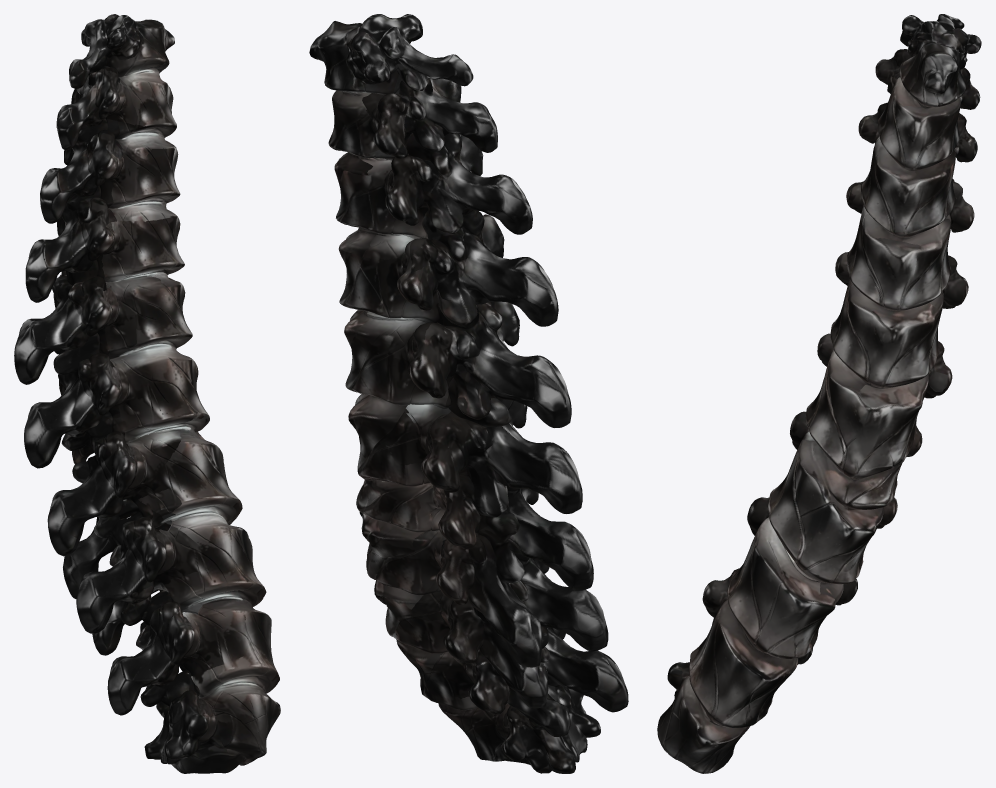
The model's file is spine-desktop.glb.
The picture shows the model from 3 angles, left to right: view 1: azimuth 30°, elevation 25°; view 2: azimuth 150°, elevation 25°; view 3: azimuth 270°, elevation 25°; orthographic projection. The views are drawn at different scales.
Parts seen in each view (by area): view 1: tripo_node_fd81abb5; view 2: tripo_node_fd81abb5; view 3: tripo_node_fd81abb5.
Boxes of the visible parts, bbox=[...] form: tripo_node_fd81abb5: bbox=[14, 14, 280, 773]; tripo_node_fd81abb5: bbox=[309, 14, 628, 773]; tripo_node_fd81abb5: bbox=[657, 14, 981, 773].
Bounding box in the file's own units: 0.3295 × 1.09 × 0.4311.
1 material, 1 textured.
